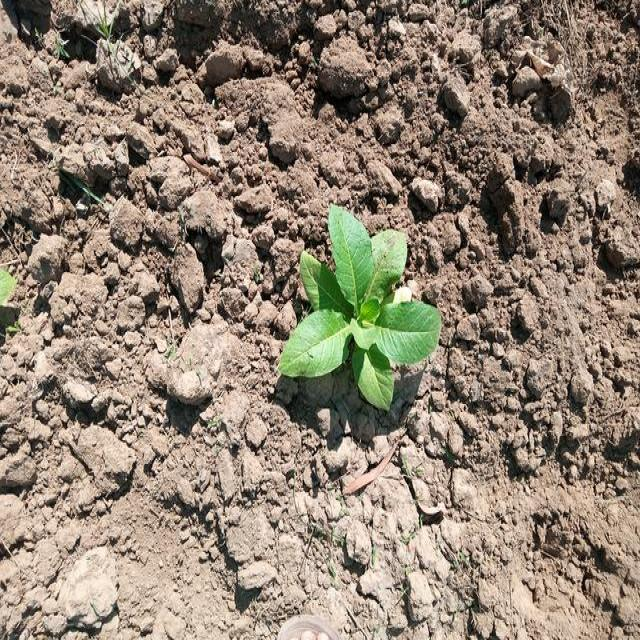crop: (284, 218, 431, 402)
